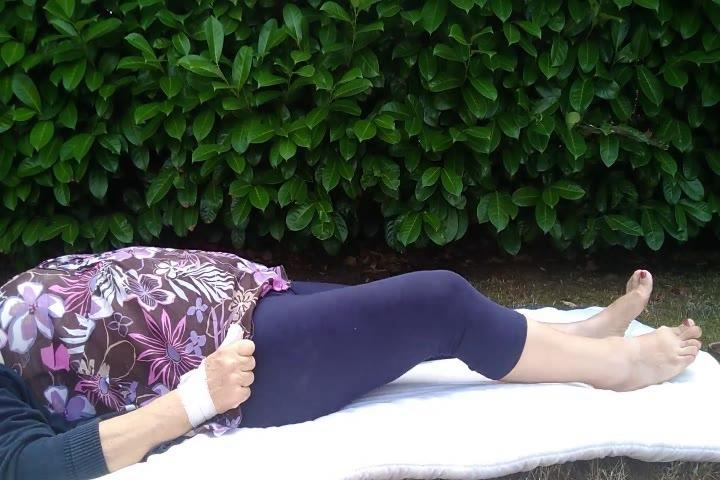lower_body: (230, 251, 707, 435)
